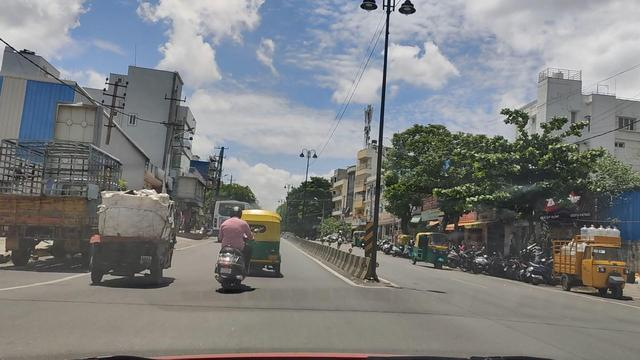HMV: (0, 139, 95, 261)
LMV: (102, 189, 176, 291), (208, 203, 254, 303), (228, 219, 284, 269)
